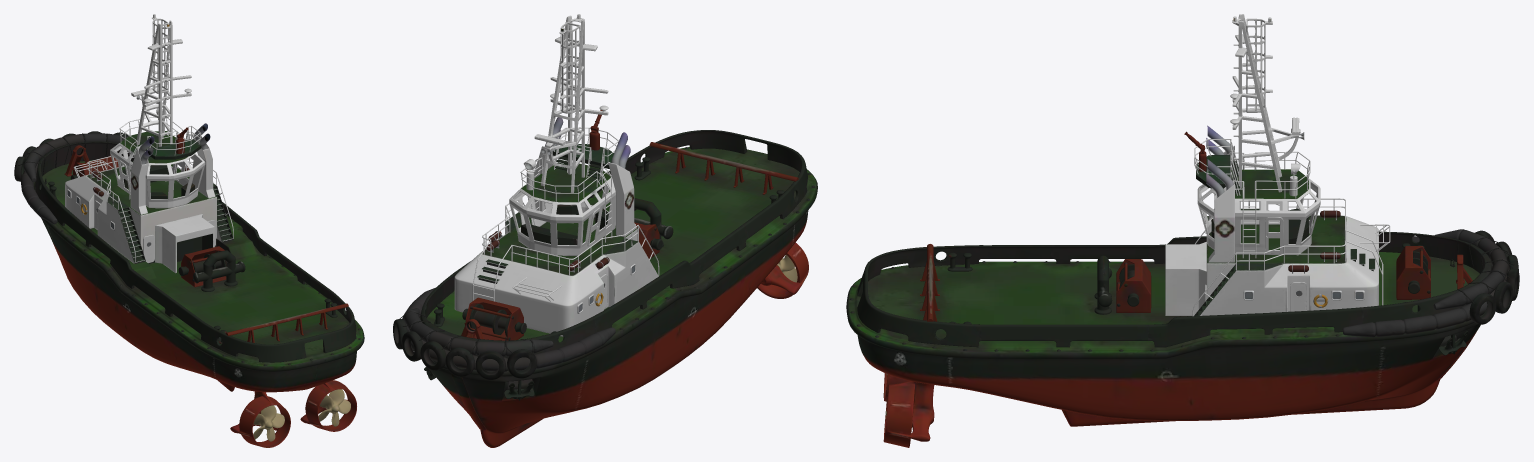
File: tugboat-transformed.glb
The picture shows the model from 3 angles, left to right: view 1: azimuth 30°, elevation 25°; view 2: azimuth 150°, elevation 25°; view 3: azimuth 270°, elevation 25°; orthographic projection. The views are drawn at different scales.
Visible parts, largest first — view 1: body_guard_nose; view 2: body_guard_nose; view 3: body_guard_nose.
Boxes of the visible parts, <box> form: body_guard_nose: <box>14,14,364,447</box>; body_guard_nose: <box>393,14,817,447</box>; body_guard_nose: <box>846,14,1519,447</box>.
Size of the model in its own units: 987 by 2011 by 2995.
1 material, 1 textured.
